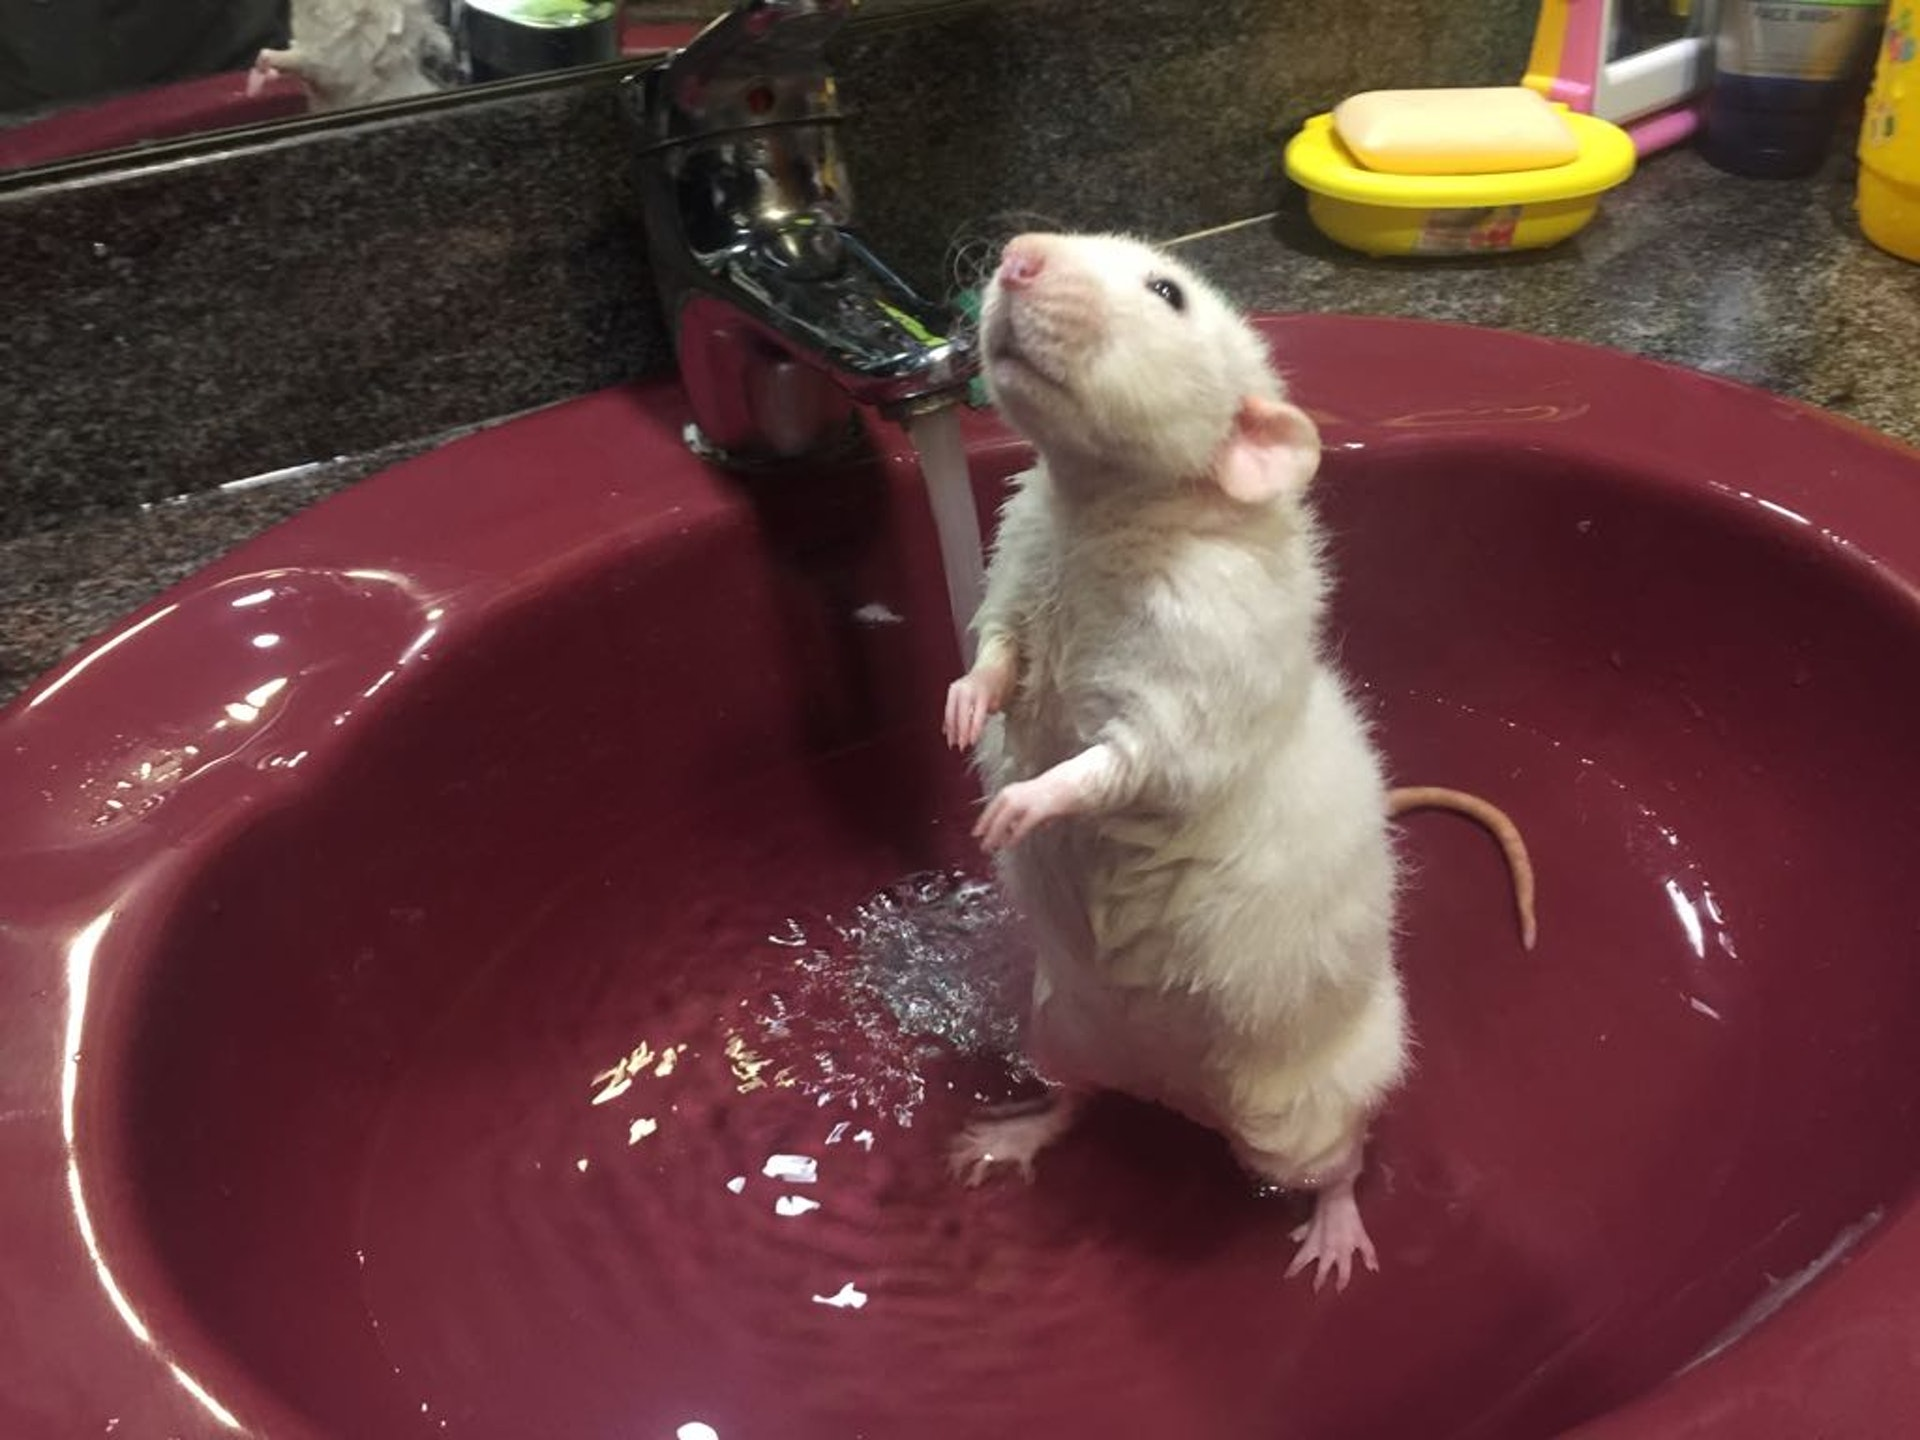mouse: (913, 185, 1501, 1299)
